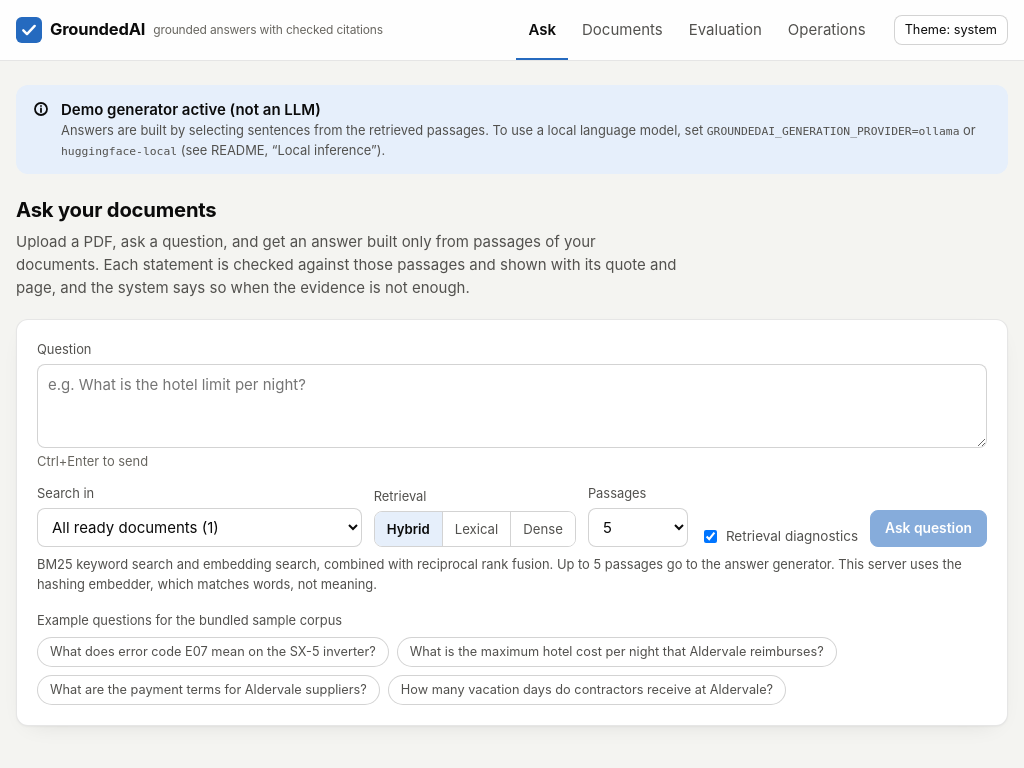
it: App › asks a question and renders the answer
Type "What is the hotel limit?" into the text box labelled "Question" at (512, 406), box [37,364,987,448]
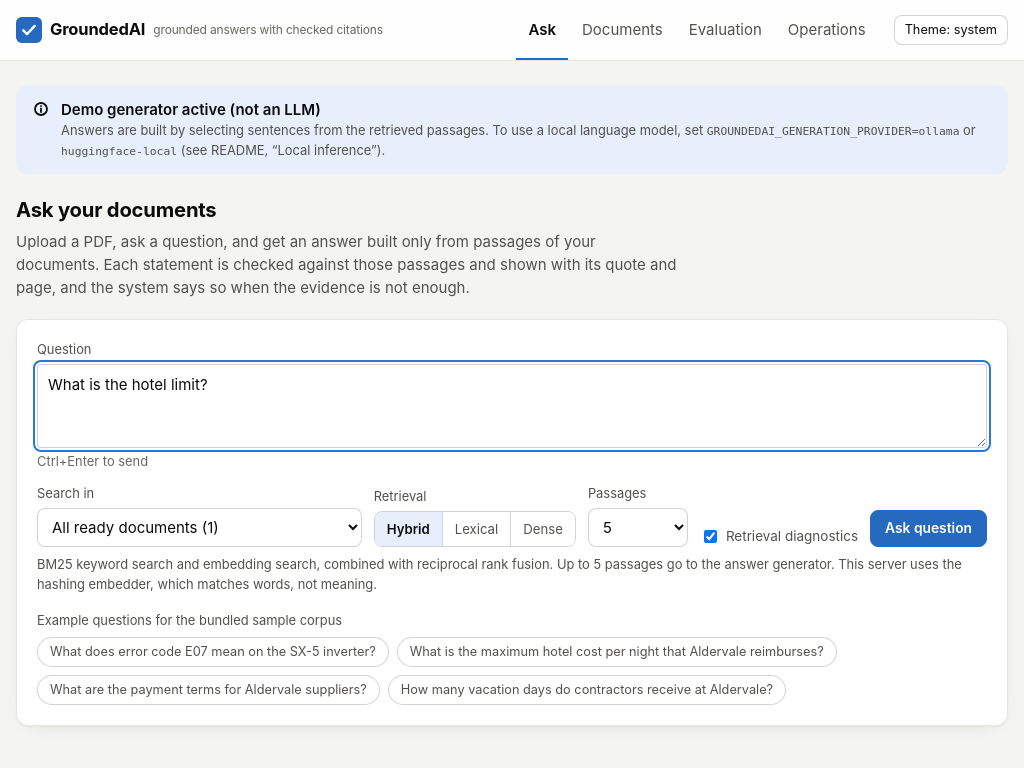
Click the button "Ask question" at (928, 529), box [870,510,987,547]
(page scrolled)
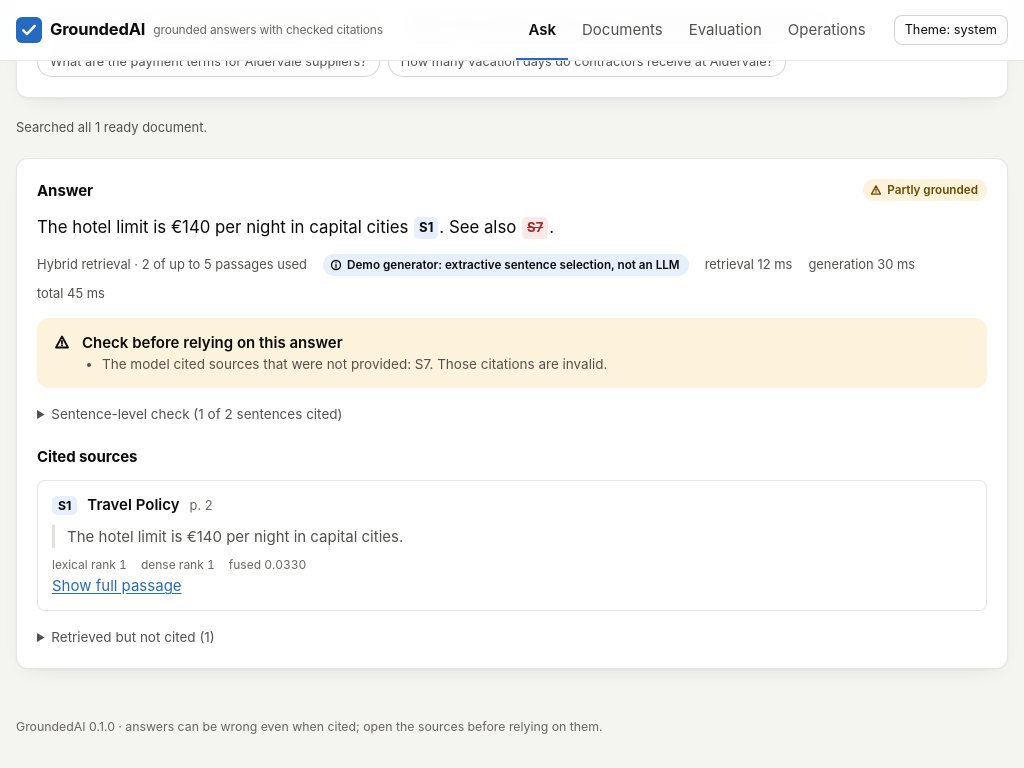
Now the heading "Cited sources" is shown, box [37,447,137,466]
